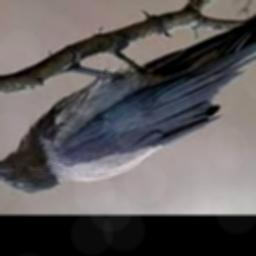Crow: (0, 11, 256, 194)
